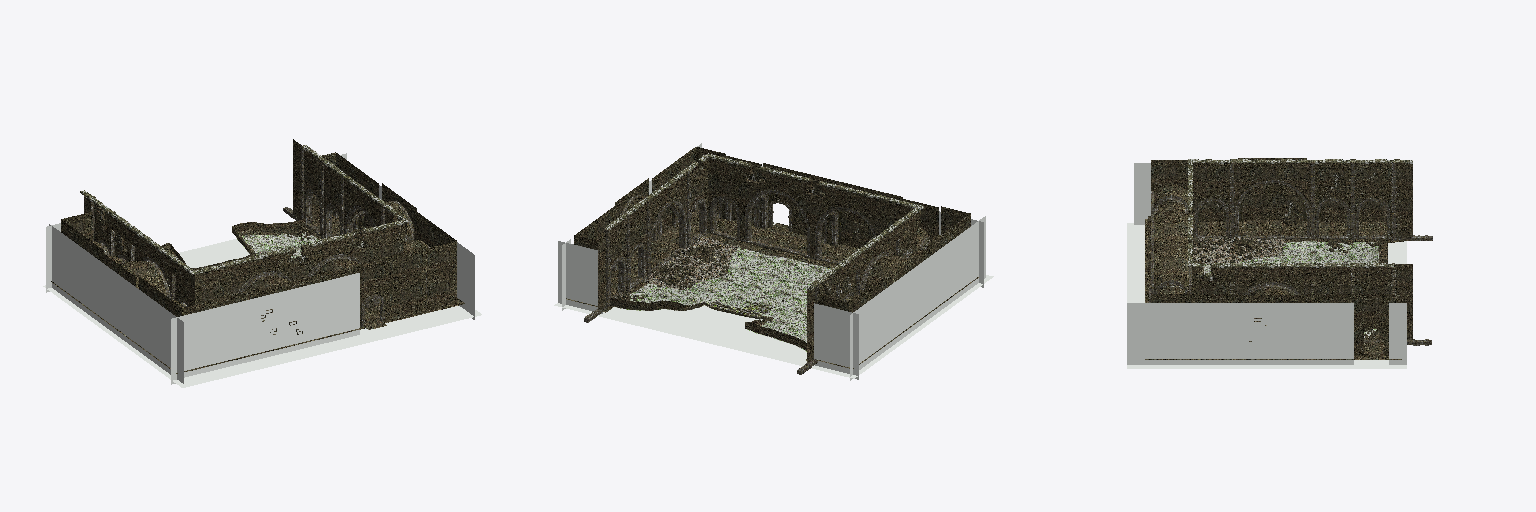
The picture shows the model from 3 angles: view 1: azimuth 30°, elevation 25°; view 2: azimuth 150°, elevation 25°; view 3: azimuth 270°, elevation 25°; orthographic projection.
Visible parts, largest first — view 1: mesh0, mesh6, mesh2, mesh10, mesh5, mesh11, mesh8; view 2: mesh6, mesh0, mesh2, mesh8, mesh11, mesh7, mesh5, mesh10, mesh12; view 3: mesh6, mesh0, mesh2, mesh11, mesh8, mesh10, mesh12, mesh5.
Boxes of the visible parts, box(x1,y1,x2,y2) form: mesh0: box(43, 153, 481, 387); mesh6: box(61, 139, 456, 334); mesh2: box(91, 145, 429, 326); mesh10: box(80, 145, 407, 274); mesh5: box(149, 219, 386, 329); mesh11: box(51, 215, 464, 373); mesh8: box(167, 232, 317, 293); mesh6: box(574, 147, 970, 362); mesh0: box(554, 143, 993, 380); mesh2: box(584, 170, 930, 374); mesh8: box(616, 247, 830, 351); mesh11: box(566, 210, 978, 368); mesh7: box(652, 257, 806, 333); mesh5: box(602, 223, 864, 360); mesh10: box(604, 153, 923, 289); mesh12: box(642, 236, 739, 289); mesh6: box(1146, 158, 1412, 355); mesh0: box(1127, 163, 1406, 368); mesh2: box(1149, 162, 1432, 345); mesh11: box(1145, 219, 1401, 359); mesh8: box(1204, 241, 1378, 337); mesh10: box(1188, 159, 1412, 276); mesh12: box(1192, 238, 1284, 265); mesh5: box(1193, 233, 1403, 339).
Bounding box in the file's own units: 27.33 × 7.56 × 23.97.
13 materials, 10 textured.